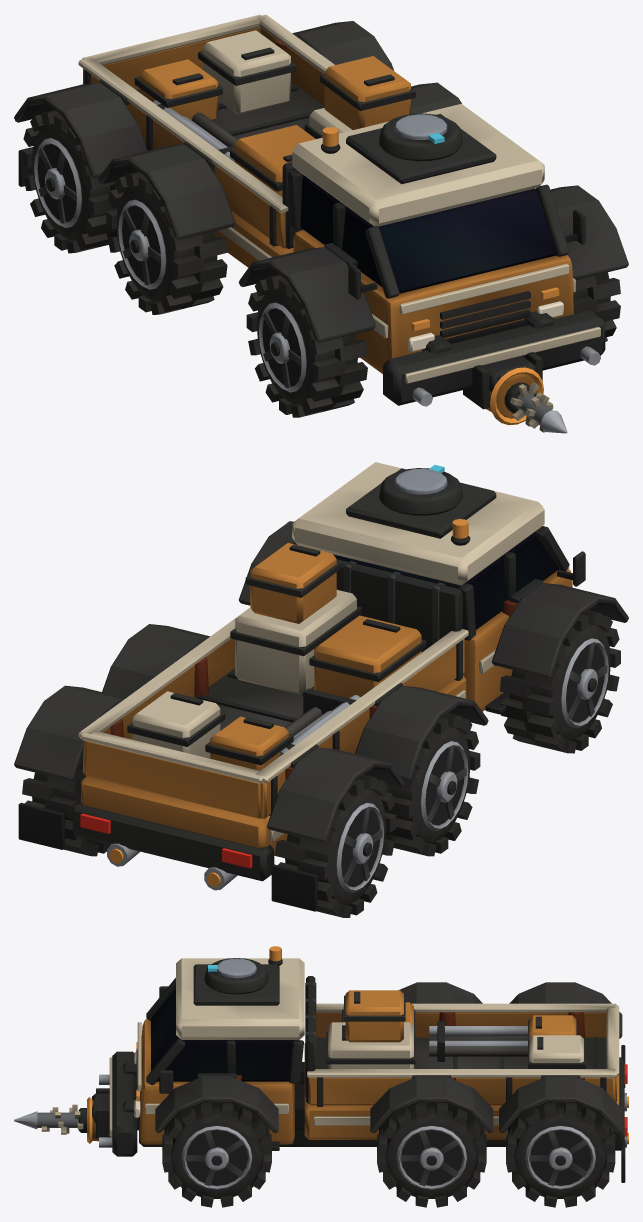
The model's file is ex_rover_2.glb.
The picture shows the model from 3 angles, top to bottom: view 1: azimuth 30°, elevation 25°; view 2: azimuth 150°, elevation 25°; view 3: azimuth 270°, elevation 25°; orthographic projection. The views are drawn at different scales.
Visible parts, largest first — view 1: body, wheel_3, wheel_1, wheel_5, wheel_0, drill; view 2: body, wheel_1, wheel_5, wheel_3, wheel_4; view 3: body, wheel_4, wheel_2, wheel_0, drill.
Boxes of the visible parts, bbox=[...] form: body: bbox=[14, 14, 628, 424]; wheel_3: bbox=[106, 171, 227, 314]; wheel_1: bbox=[246, 274, 367, 417]; wheel_5: bbox=[22, 110, 117, 253]; wheel_0: bbox=[573, 272, 620, 341]; drill: bbox=[504, 382, 567, 433]; body: bbox=[14, 462, 628, 911]; wheel_1: bbox=[499, 610, 620, 753]; wheel_5: bbox=[275, 774, 396, 917]; wheel_3: bbox=[385, 713, 480, 856]; wheel_4: bbox=[22, 755, 110, 856]; body: bbox=[87, 946, 628, 1182]; wheel_4: bbox=[506, 1103, 615, 1207]; wheel_2: bbox=[377, 1103, 486, 1207]; wheel_0: bbox=[162, 1103, 271, 1207]; drill: bbox=[14, 1104, 86, 1134].
Size of the model in its own units: 3.89 by 2.81 by 8.47.
